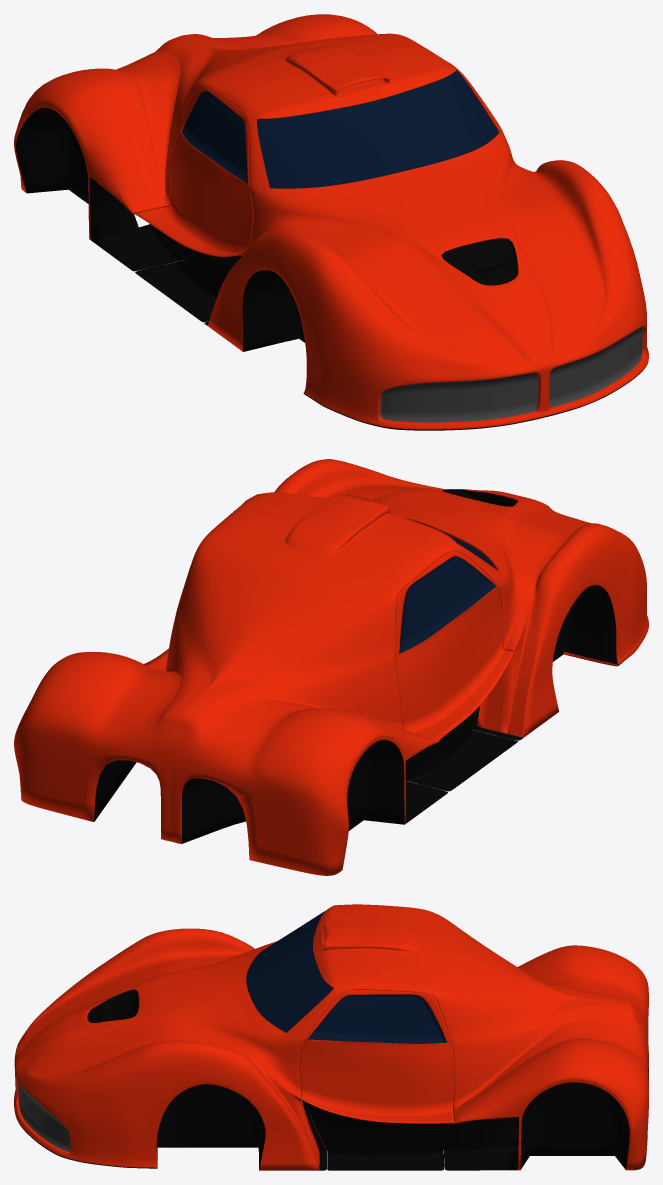
The model's file is Coche.fbx.
The picture shows the model from 3 angles, top to bottom: view 1: azimuth 30°, elevation 25°; view 2: azimuth 150°, elevation 25°; view 3: azimuth 270°, elevation 25°; orthographic projection. The views are drawn at different scales.
Visible parts, largest first — view 1: Plane; view 2: Plane; view 3: Plane.
Part boxes in pixels (x1,y1,x2,y2): Plane: (14,14,648,430); Plane: (14,459,648,875); Plane: (14,904,648,1170).
Bounding box in the file's own units: 2.55 × 1.49 × 4.96.
